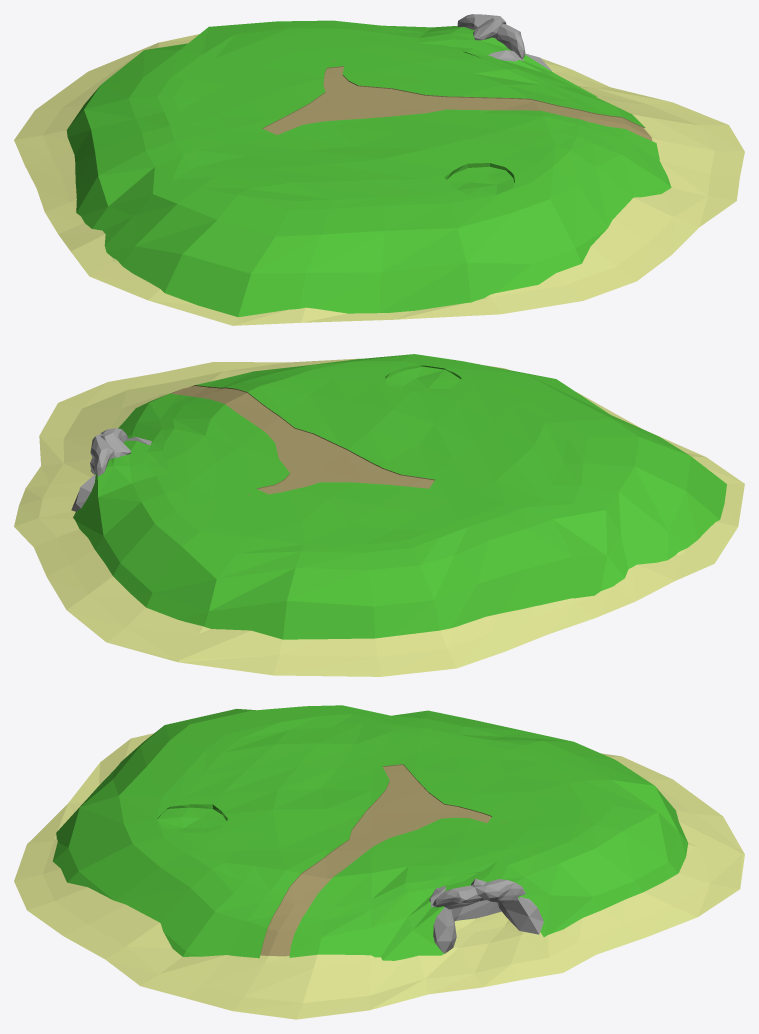
File: GraduationIsland2.fbx
3 views of the same model, one above another, from view 1: azimuth 30°, elevation 25°; view 2: azimuth 150°, elevation 25°; view 3: azimuth 270°, elevation 25° (orthographic). The views are drawn at different scales.
Visible parts, largest first — view 1: Cube.006, Cube.005, Icosphere.104; view 2: Cube.006, Cube.005, Icosphere.104; view 3: Cube.006, Cube.005, Icosphere.104.
Part boxes in pixels (box(x1,y1,x2,y2)): Cube.006: box(66, 20, 671, 317); Cube.005: box(14, 34, 744, 325); Icosphere.104: box(457, 14, 551, 71); Cube.006: box(73, 354, 726, 639); Cube.005: box(14, 358, 744, 676); Icosphere.104: box(71, 428, 151, 511); Cube.006: box(52, 705, 687, 960); Cube.005: box(14, 733, 744, 1019); Icosphere.104: box(429, 879, 543, 953).
Size of the model in its own units: 24368 by 3067 by 24539.
